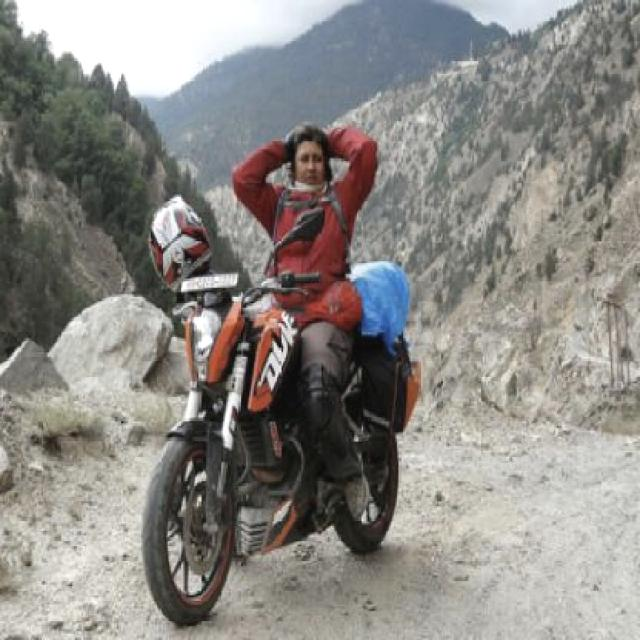Without Helmet: (285, 118, 332, 177)
